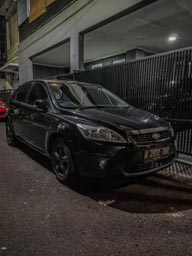plat: (142, 147, 173, 161)
